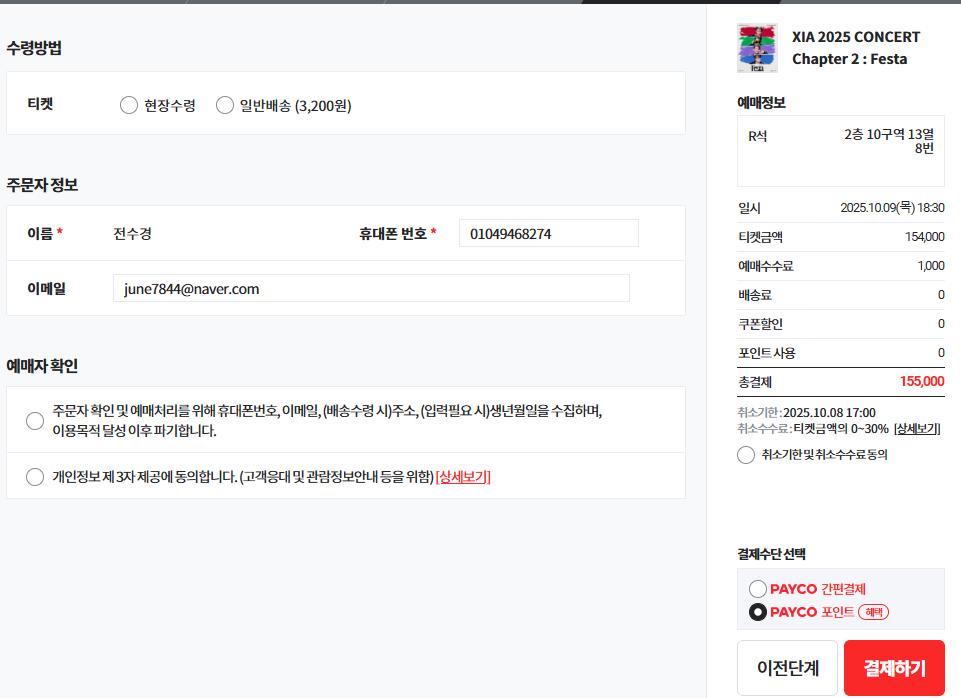button: (838, 637, 958, 698), (735, 640, 839, 697), (890, 420, 948, 439)
checkbox: (11, 387, 688, 457), (11, 461, 678, 503), (737, 569, 945, 631), (215, 93, 363, 123), (729, 445, 902, 470), (117, 89, 205, 120)
input_field: (7, 271, 634, 301), (351, 217, 653, 255), (17, 219, 325, 256)
